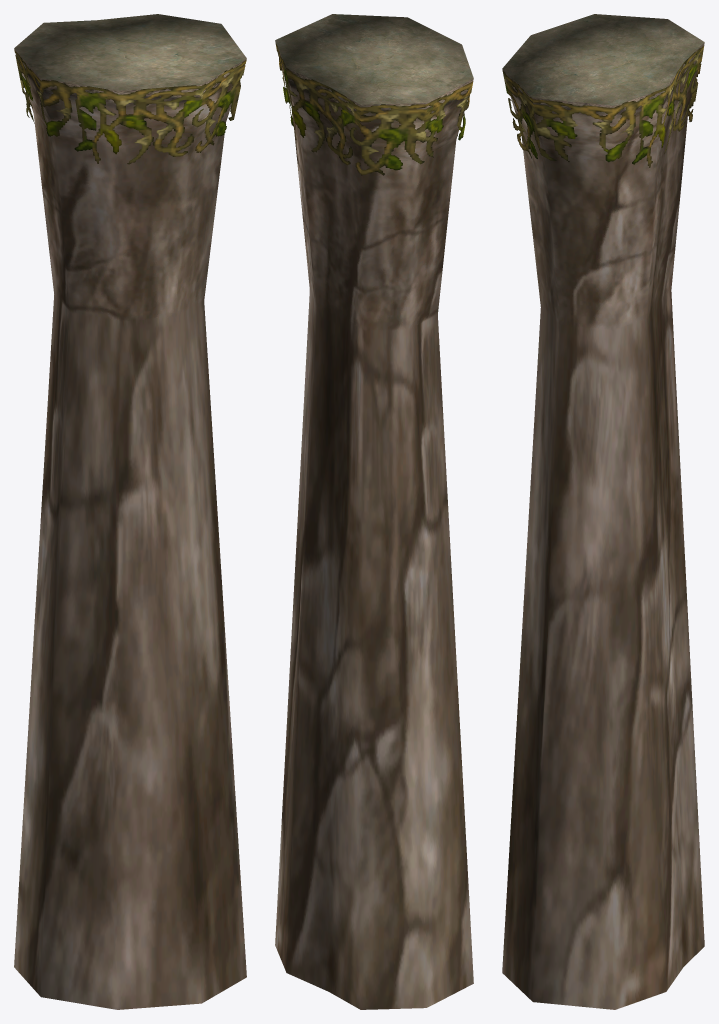
The model's file is INST_OH_PONDPILLARB.fbx.
3 views of the same model, side by side, from view 1: azimuth 30°, elevation 25°; view 2: azimuth 150°, elevation 25°; view 3: azimuth 270°, elevation 25° (orthographic).
Visible parts, largest first — view 1: INST_OH_PONDPILLARB; view 2: INST_OH_PONDPILLARB; view 3: INST_OH_PONDPILLARB.
Part boxes in pixels (<box>): INST_OH_PONDPILLARB: <box>14,14,246,1009</box>; INST_OH_PONDPILLARB: <box>275,14,473,1009</box>; INST_OH_PONDPILLARB: <box>502,14,704,1009</box>.
Bounding box in the file's own units: 11604 × 53276 × 10821.
Materials: 4 (4 with a texture image).
